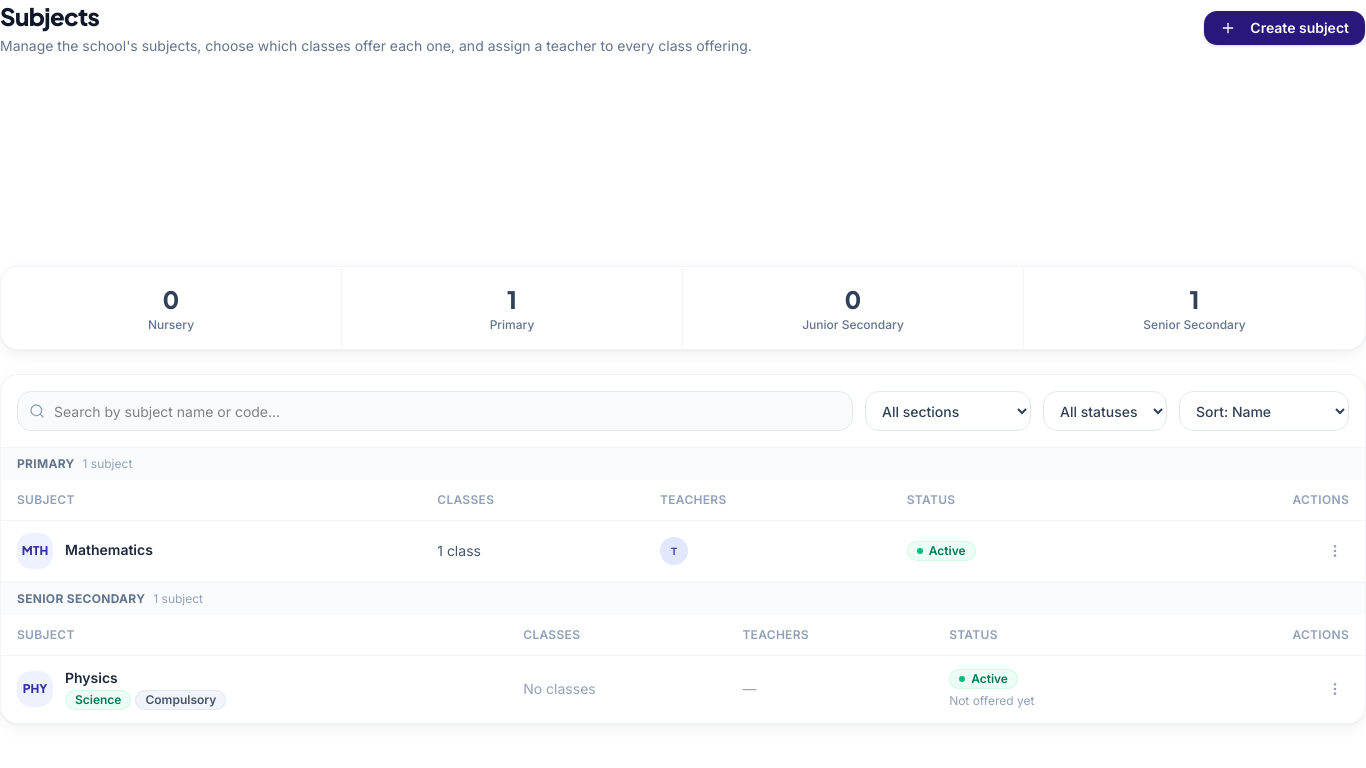
Test: SubjectsView › modals › opens CreateSubjectModal when "Create subject" button is clicked
The width and height of the screenshot is (1366, 768).
Click the button "Create subject".
click(1285, 28)  # box [1203,10,1365,46]
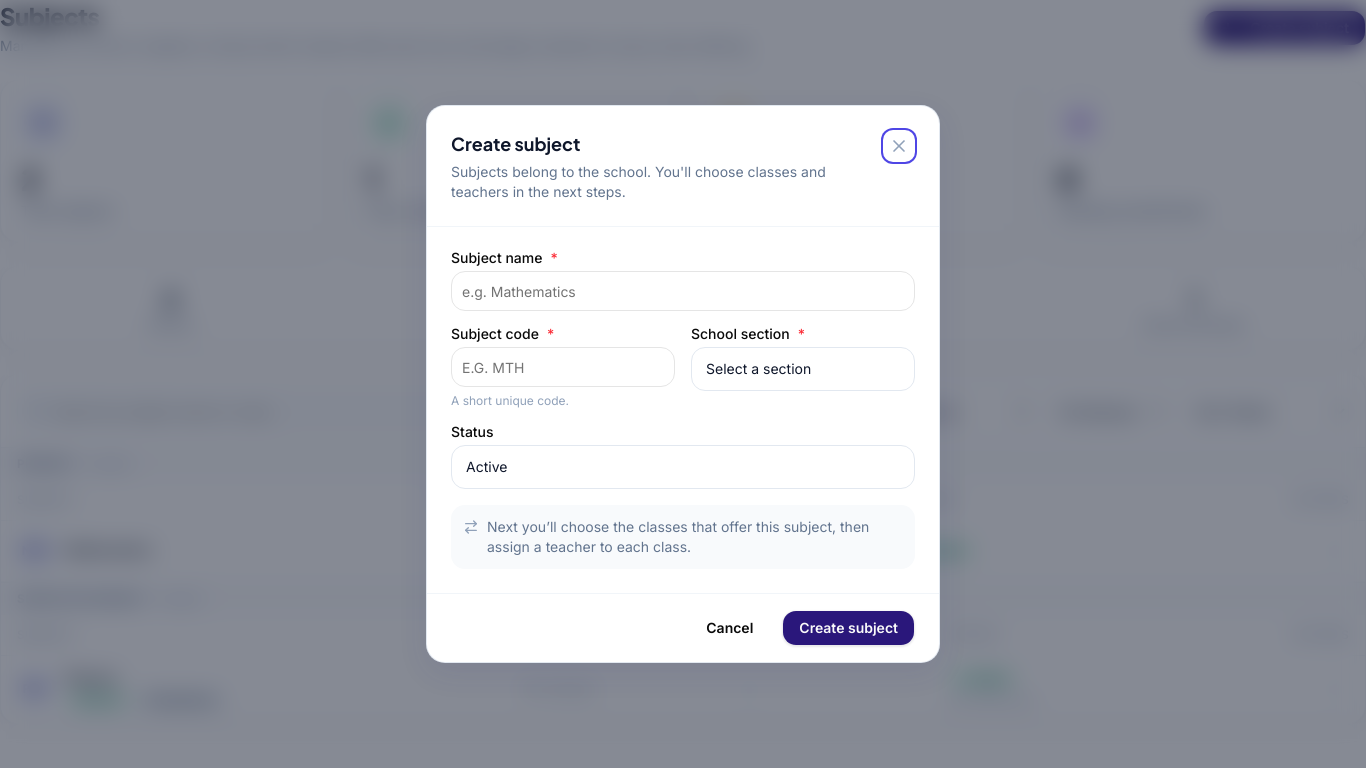
Now the dialog is shown, box [427,106,939,662]
Now the heading "Create subject" is shown, box [451,132,580,155]
